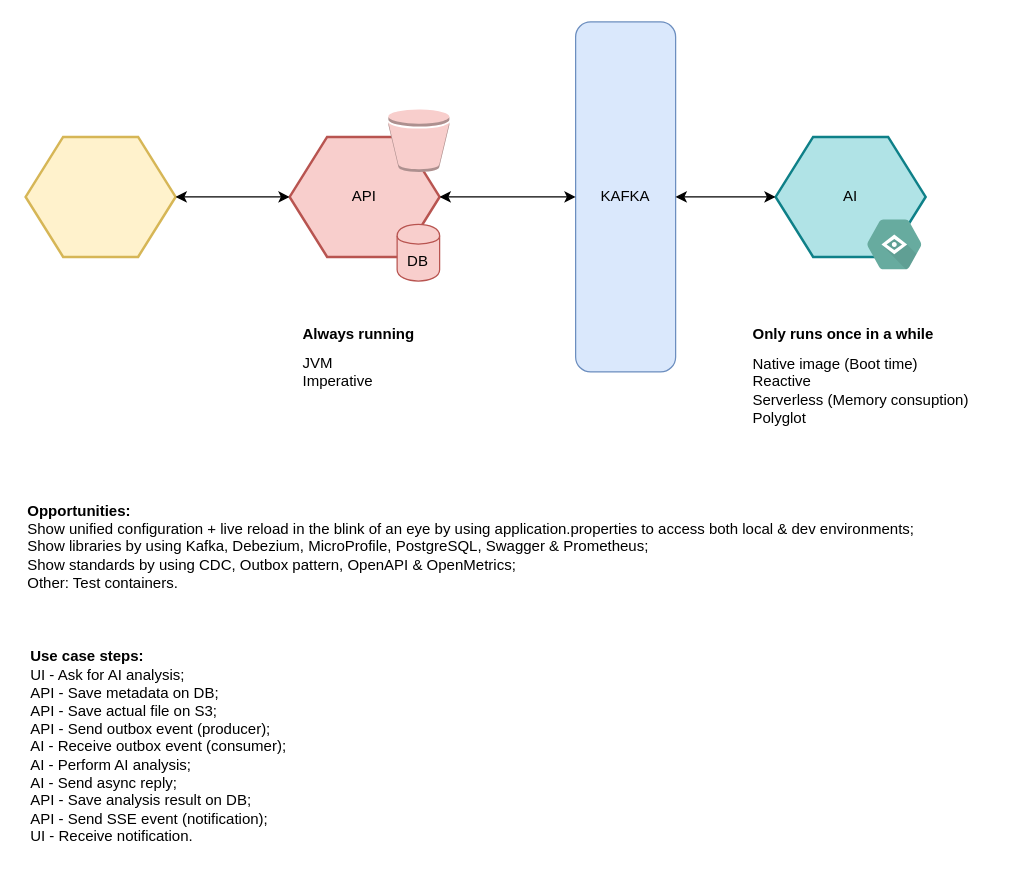
Image size: 1010x869. Some labels were removed from this diagram. The centre of each missing label's shape, as x and y in pixels:
S3: (x=418, y=140)
UI: (x=100, y=196)
